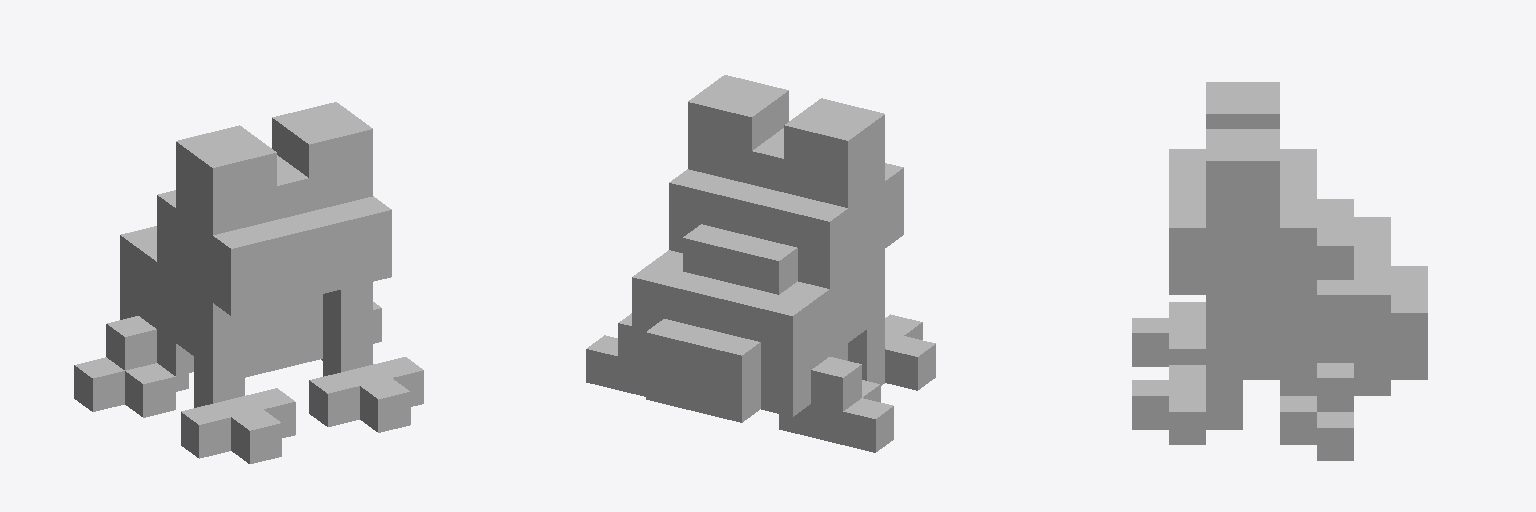
Rendered from frog.obj.
3 renders of one model, left to right at view 1: azimuth 30°, elevation 25°; view 2: azimuth 150°, elevation 25°; view 3: azimuth 270°, elevation 25°, orthographic.
Parts seen in each view (by area): view 1: object 1; view 2: object 1; view 3: object 1.
Boxes of the visible parts, x1=… form: object 1: x1=74, y1=102, x2=423, y2=463; object 1: x1=586, y1=75, x2=935, y2=452; object 1: x1=1132, y1=82, x2=1427, y2=460.
Size of the model in its own units: 0.9 by 0.8 by 0.8.